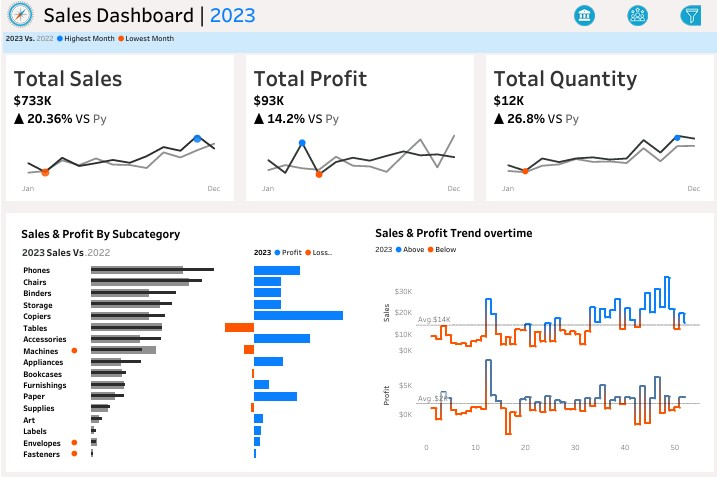

This screenshot's page, from the dashboard's own definition file:
{"tool":"tableau","page":{"name":"Sales Dashboard","canvas":[1200,800],"ordinal":1},"visuals":[{"type":"image","param":"Image/Icon - Logo.png","box":[0,0,64,54]},{"type":"text","box":[64,0,892,54]},{"type":"blank","box":[938,2,256,68]},{"type":"dashboard-object","box":[928,7,89,44]},{"type":"dashboard-object","box":[1017,7,88,44]},{"type":"dashboard-object","box":[1105,7,88,44]},{"type":"worksheet","title":"legend KPIS","mark":"Automatic","box":[0,54,1200,42]},{"type":"text","box":[938,70,256,83]},{"type":"worksheet","title":"Total Sales","mark":"Automatic","rows":["Calculation_1127575645958144"],"cols":["Order Date"],"box":[0,96,400,253]},{"type":"worksheet","title":"Total Profit","mark":"Automatic","rows":["Calculation_0299918827008001"],"cols":["Order Date"],"box":[400,96,400,253]},{"type":"worksheet","title":"total quantity","mark":"Automatic","rows":["Calculation_0299918850363402"],"cols":["Order Date"],"box":[800,96,400,253]},{"type":"parameter","param":"[Parameters].[Parameter 0271880624435203]","box":[938,153,256,132]},{"type":"text","box":[938,285,256,29]},{"type":"filter","title":"Total Sales","param":"[federated.0xqg4tu05k95f619wy6ay125t9xu].[none:Category:nk]","box":[938,314,256,52]},{"type":"filter","title":"Total Sales","param":"[federated.0xqg4tu05k95f619wy6ay125t9xu].[none:Sub-Category:nk]","box":[938,366,256,64]},{"type":"text","box":[27,376,556,32.2]},{"type":"text","box":[617,376,556,31]},{"type":"text","box":[617,407,556,42]},{"type":"worksheet","title":"legend subcategory","mark":"Automatic","box":[27,408.2,388,32]},{"type":"text","box":[415,408.2,168,32]},{"type":"blank","box":[938,430,256,44]},{"type":"worksheet","title":"Subcategory Sales and profit","mark":"Bar","rows":["Sub-Category","Calculation_0464845677797376"],"cols":["Calculation_0271880619819009","Calculation_0271880619536384","Calculation_0748244379586562"],"box":[27,440.2,556,332.7]},{"type":"worksheet","title":"Weekly trend","mark":"Automatic","rows":["Calculation_0271880619536384","Calculation_0748244379586562"],"cols":["Order Date"],"box":[617,449,556,324]},{"type":"text","box":[938,474,256,29]},{"type":"filter","title":"Total Sales","param":"[federated.0xqg4tu05k95f619wy6ay125t9xu].[none:Region:nk]","box":[938,503,256,52]},{"type":"filter","title":"Total Sales","param":"[federated.0xqg4tu05k95f619wy6ay125t9xu].[none:State:nk]","box":[938,555,256,52]},{"type":"filter","title":"Total Sales","param":"[federated.0xqg4tu05k95f619wy6ay125t9xu].[none:City:nk]","box":[938,607,256,52]}]}

Visuals, with their boxes in screenshot pixels (x1, y1, x2, y2), scaled from the page's 1200x800 canvas onto the 717x477 screenshot:
image: bbox=[0, 0, 38, 32]
text: bbox=[38, 0, 571, 32]
blank: bbox=[560, 1, 713, 42]
dashboard-object: bbox=[554, 4, 608, 30]
dashboard-object: bbox=[608, 4, 660, 30]
dashboard-object: bbox=[660, 4, 713, 30]
"legend KPIS" worksheet: bbox=[0, 32, 716, 57]
text: bbox=[560, 42, 713, 91]
"Total Sales" worksheet: bbox=[0, 57, 239, 208]
"Total Profit" worksheet: bbox=[239, 57, 478, 208]
"total quantity" worksheet: bbox=[478, 57, 716, 208]
parameter: bbox=[560, 91, 713, 170]
text: bbox=[560, 170, 713, 187]
"Total Sales" filter: bbox=[560, 187, 713, 218]
"Total Sales" filter: bbox=[560, 218, 713, 256]
text: bbox=[16, 224, 348, 243]
text: bbox=[369, 224, 701, 243]
text: bbox=[369, 243, 701, 268]
"legend subcategory" worksheet: bbox=[16, 243, 248, 262]
text: bbox=[248, 243, 348, 262]
blank: bbox=[560, 256, 713, 283]
"Subcategory Sales and profit" worksheet (Bar marks): bbox=[16, 262, 348, 461]
"Weekly trend" worksheet: bbox=[369, 268, 701, 461]
text: bbox=[560, 283, 713, 300]
"Total Sales" filter: bbox=[560, 300, 713, 331]
"Total Sales" filter: bbox=[560, 331, 713, 362]
"Total Sales" filter: bbox=[560, 362, 713, 393]
